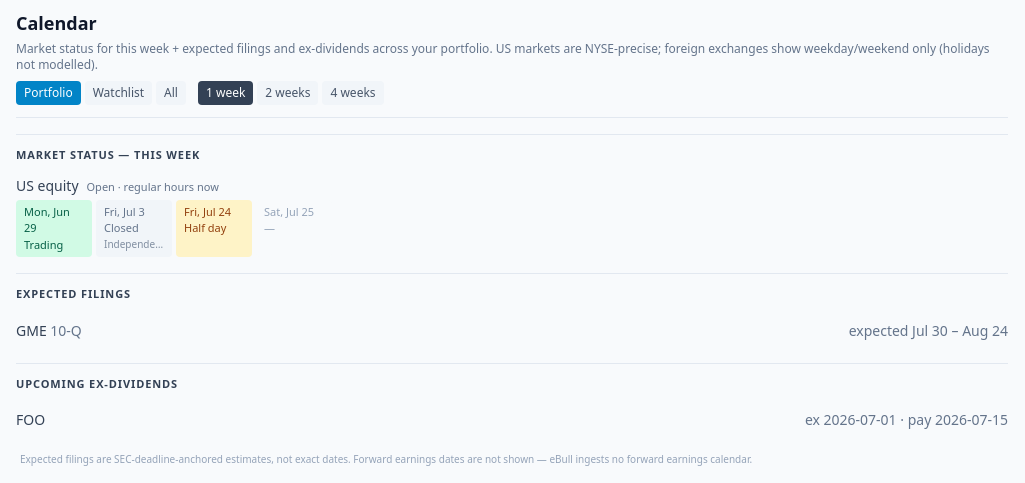
Scenario: CalendarPage › requests the default 1-week horizon, then widens to 4 weeks
Expected: the text "US equity" is shown, [16,176,78,196]
Expected: the heading "Market status — this week" is shown, [16,147,200,164]
Click the button "4 weeks": (353, 93) [322,81,384,105]
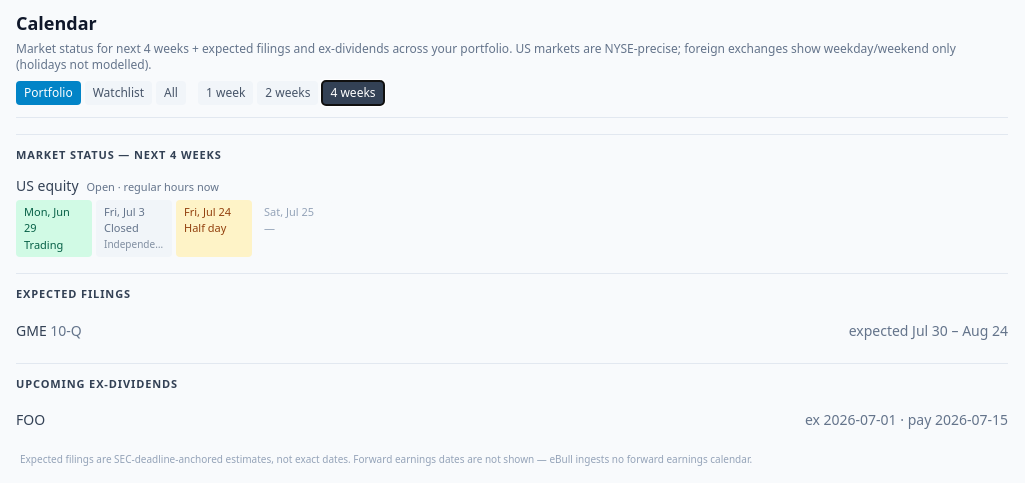
Result: the heading "Market status — next 4 weeks" is shown at [16,147,222,164]
